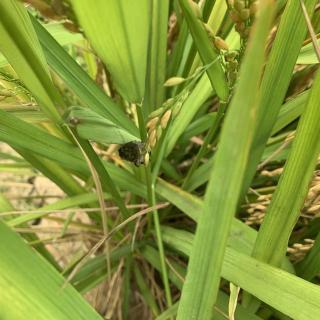Gosong-Palsu: (117, 139, 153, 168)
